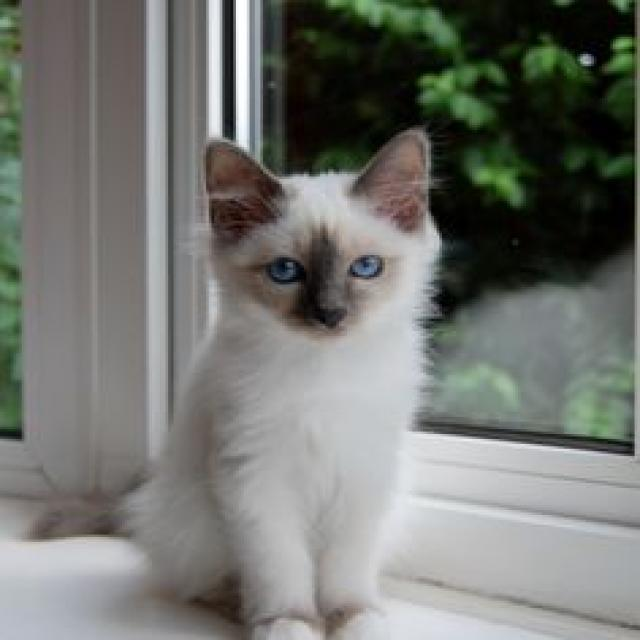da khoe manh: (235, 349, 386, 560)
